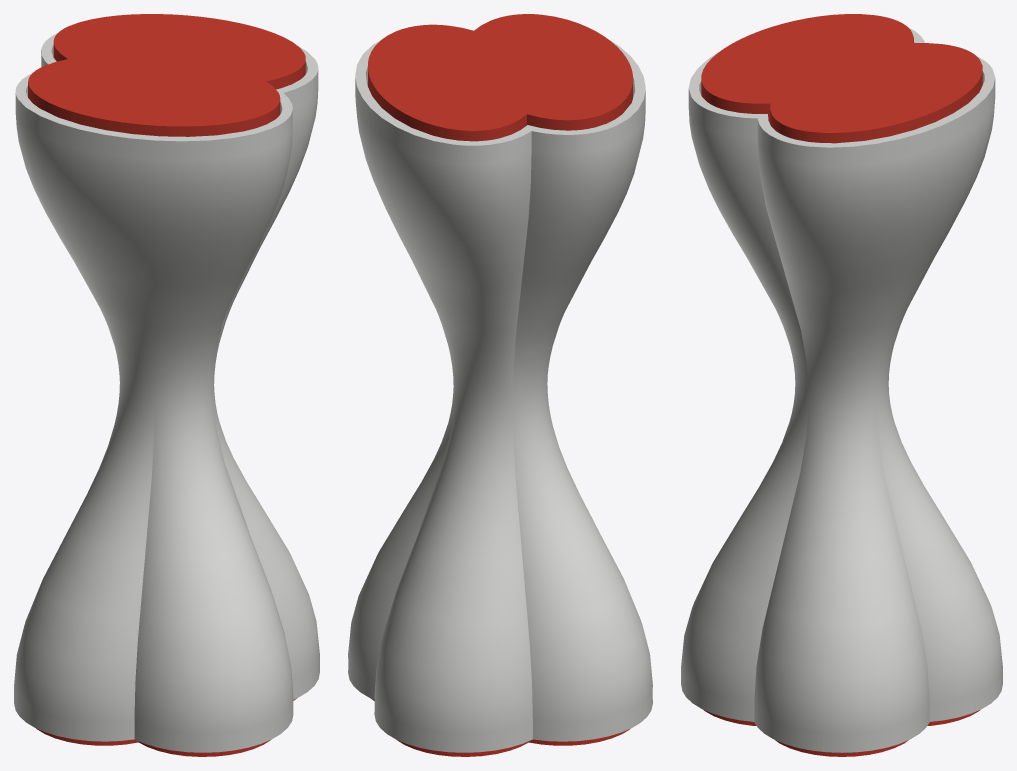
Rendered from HOUR-GLASS-CIRCLE-45 v1.fbx.
3 renders of one model, left to right at view 1: azimuth 30°, elevation 25°; view 2: azimuth 150°, elevation 25°; view 3: azimuth 270°, elevation 25°, orthographic.
Parts seen in each view (by area): view 1: Body2, Body4, Body3; view 2: Body2, Body4, Body3; view 3: Body2, Body4, Body3.
Part boxes in pixels (x1,y1,x2,y2): Body2: (14, 33, 319, 752); Body4: (28, 14, 305, 136); Body3: (36, 698, 296, 756); Body2: (348, 29, 652, 752); Body4: (368, 14, 632, 141); Body3: (371, 698, 630, 756); Body2: (681, 28, 1002, 752); Body4: (701, 14, 982, 143); Body3: (704, 710, 979, 756).
Bounding box in the file's own units: 31 × 66 × 31.
